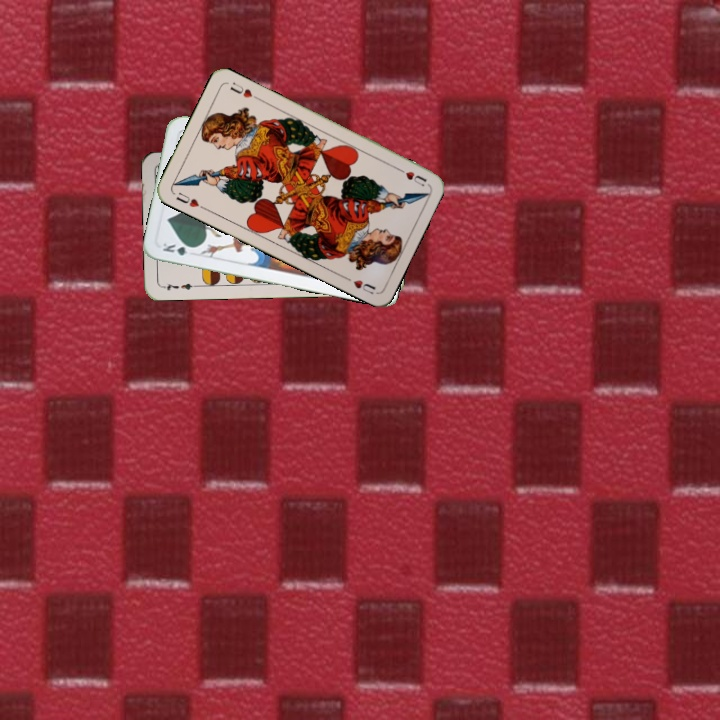E7: (159, 279, 199, 293)
GK: (159, 239, 198, 258)
HU: (392, 163, 429, 189), (172, 188, 208, 212)
